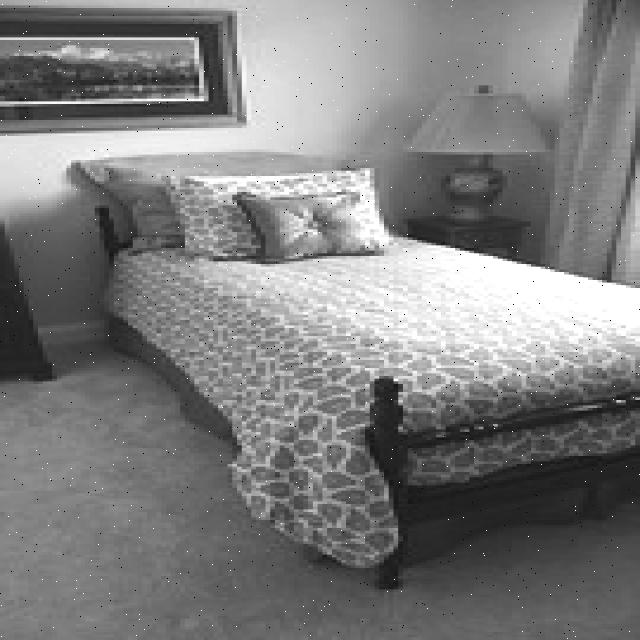bed: (97, 170, 640, 570)
